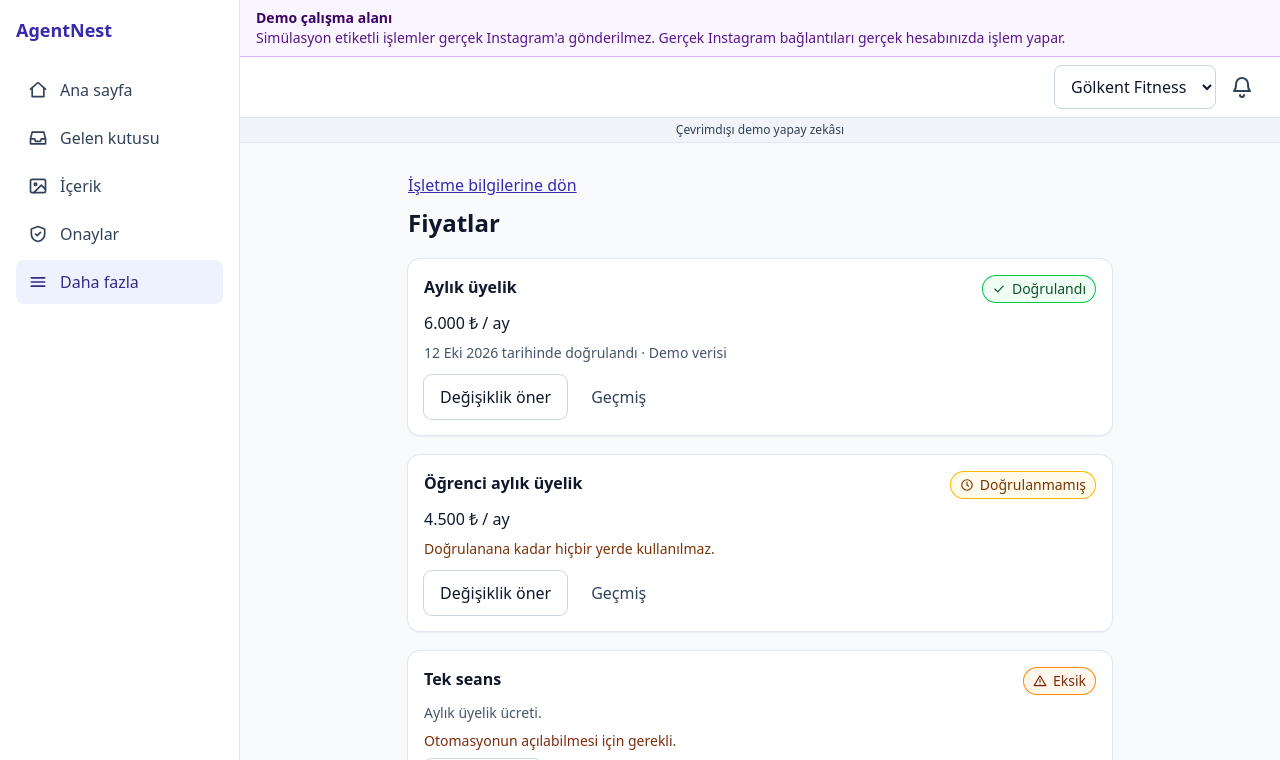
Scenario: fact editor › tells staff that their change becomes a suggestion
Click the button "Değişiklik öner" below "12 Eki 2026 tarihinde doğrulandı" at coordinates (496, 397), box [424,375,567,419]
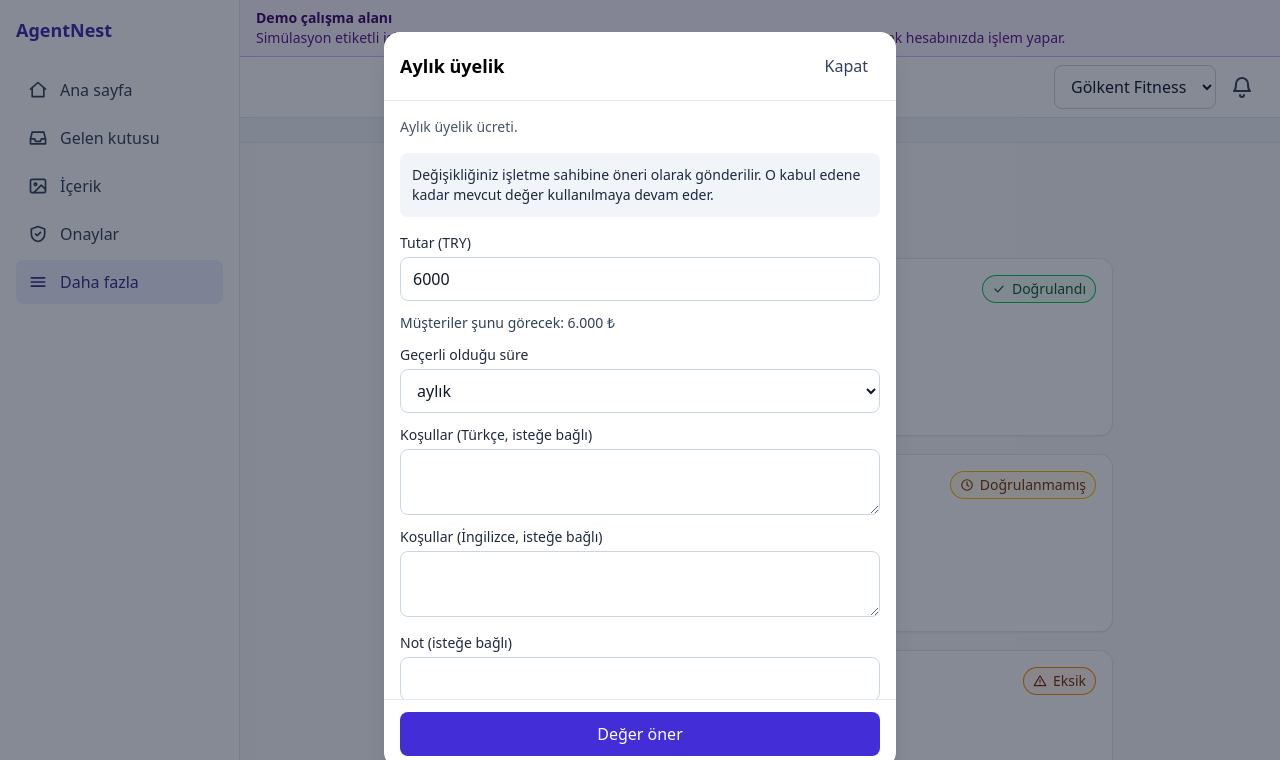
Expected: the dialog shows "öneri olarak gönderilir", [412,165,860,204]
Clear the field labelled "Tutar (TRY)" at coordinates (640, 279), box [400,257,880,301]
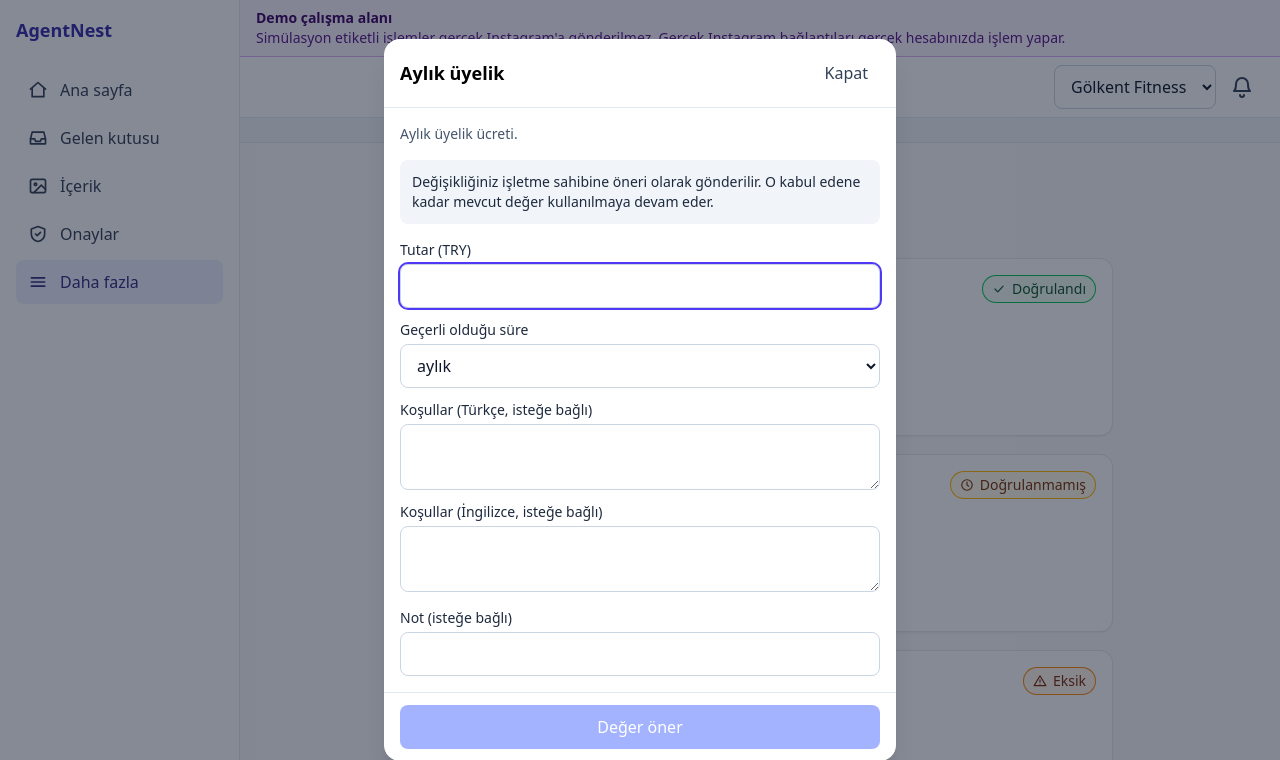
Type "7500" into the field labelled "Tutar (TRY)" at coordinates (640, 286), box [400,264,880,308]
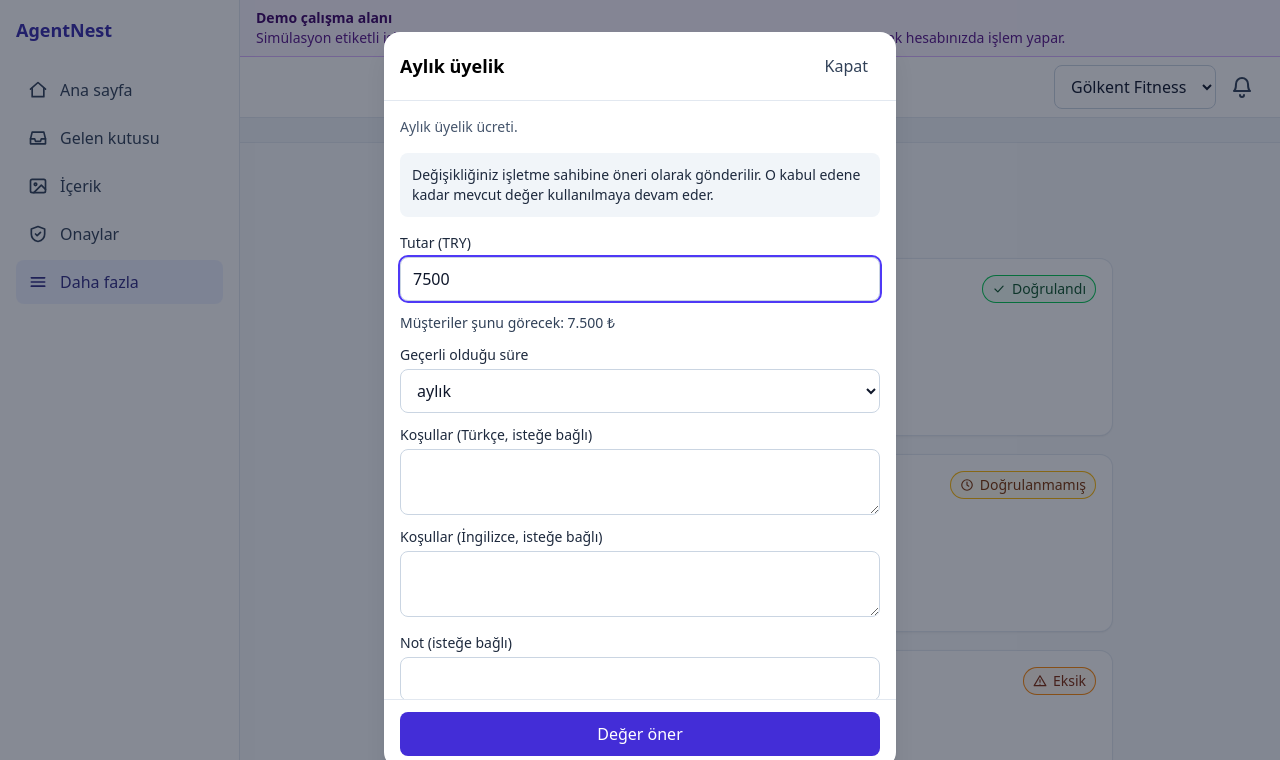
Click the button "Değer öner" at coordinates (640, 734), box [400,712,880,756]
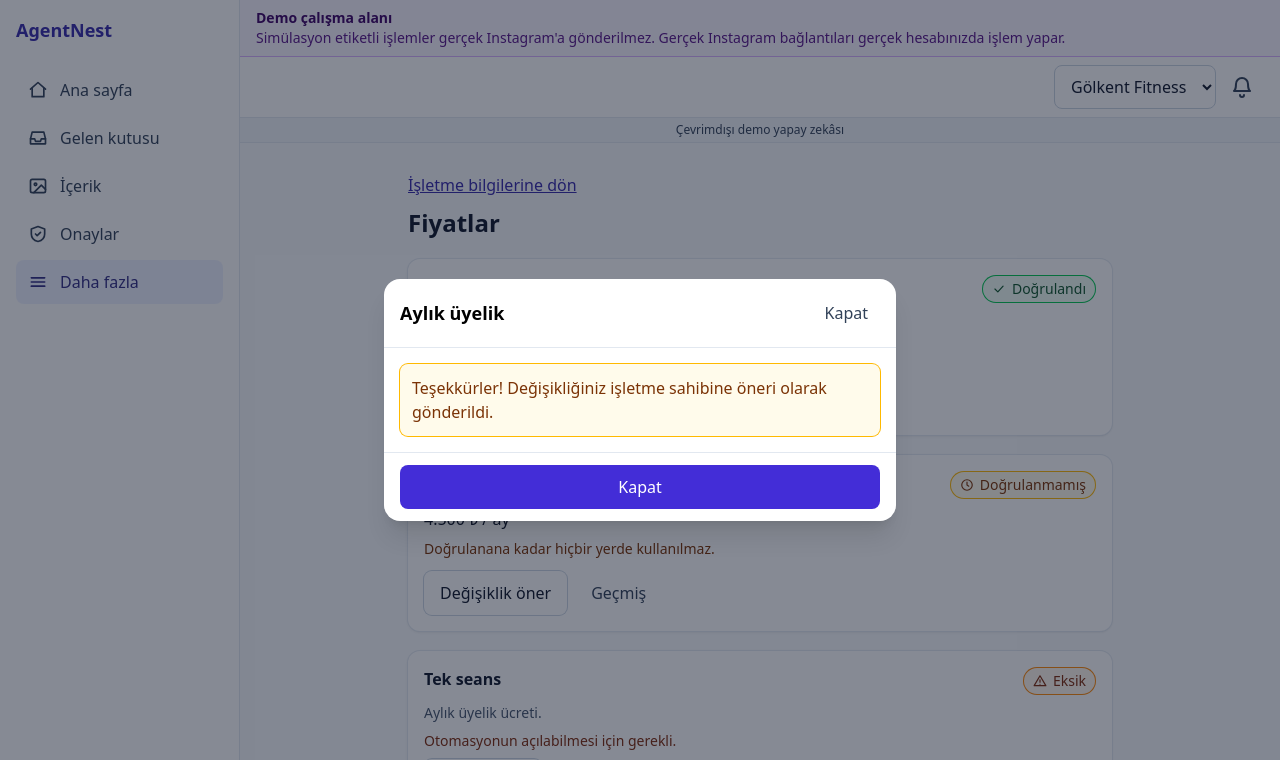
Expected: the message shows "öneri olarak gönderildi", [412,377,827,423]
